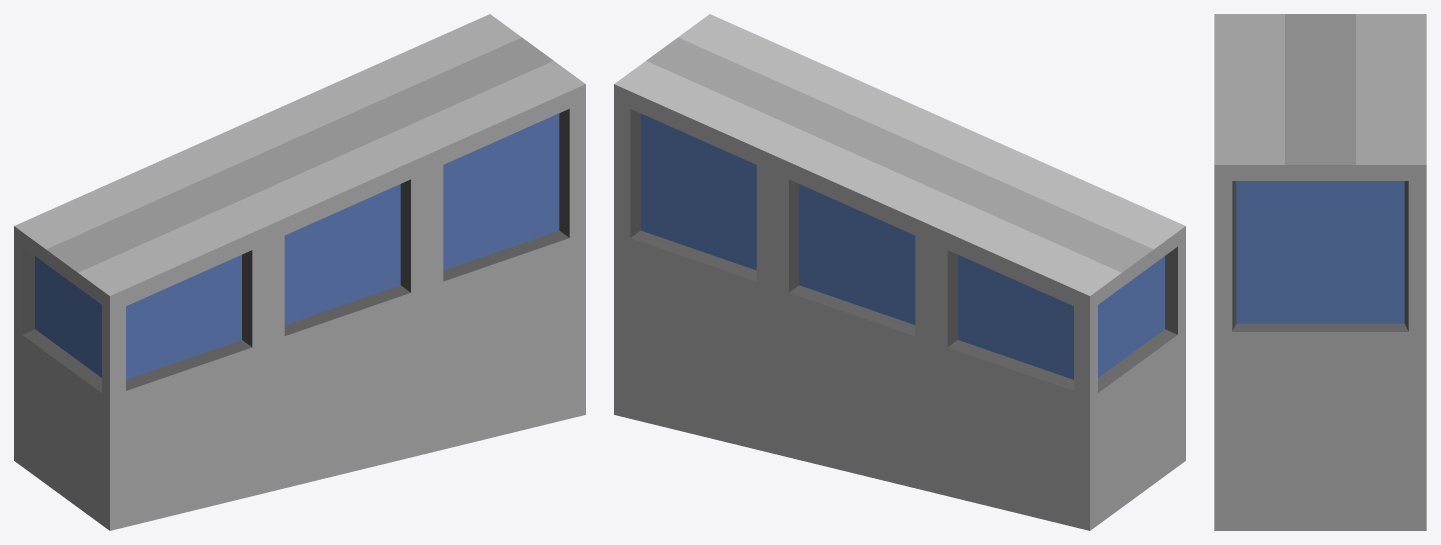
The model's file is Bld_13.fbx.
The picture shows the model from 3 angles, left to right: view 1: azimuth 30°, elevation 25°; view 2: azimuth 150°, elevation 25°; view 3: azimuth 270°, elevation 25°; orthographic projection. The views are drawn at different scales.
Visible parts, largest first — view 1: Cube.063; view 2: Cube.063; view 3: Cube.063.
Part boxes in pixels (<box>): Cube.063: <box>14,14,585,530</box>; Cube.063: <box>614,14,1185,530</box>; Cube.063: <box>1214,14,1426,530</box>.
Size of the model in its own units: 1507 by 1000 by 525.
